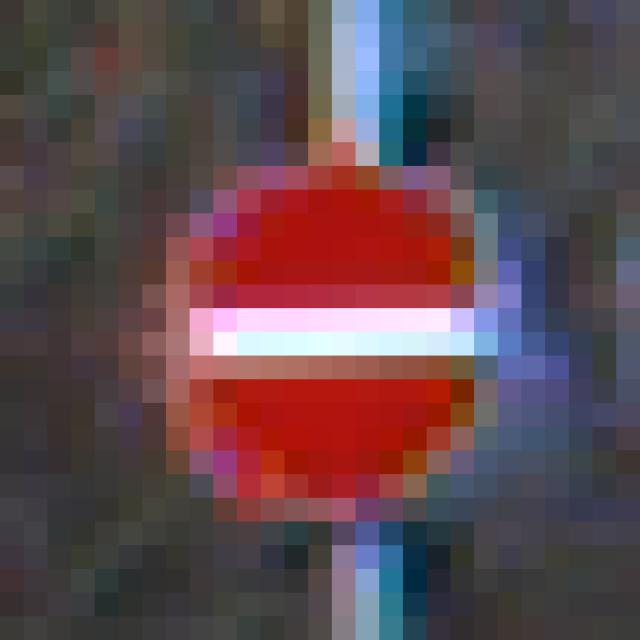No Entry: (120, 120, 523, 523)
